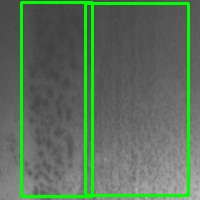pitted_surface: (85, 3, 188, 195), (21, 2, 92, 196)
